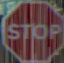Stop: (8, 3, 61, 56)
